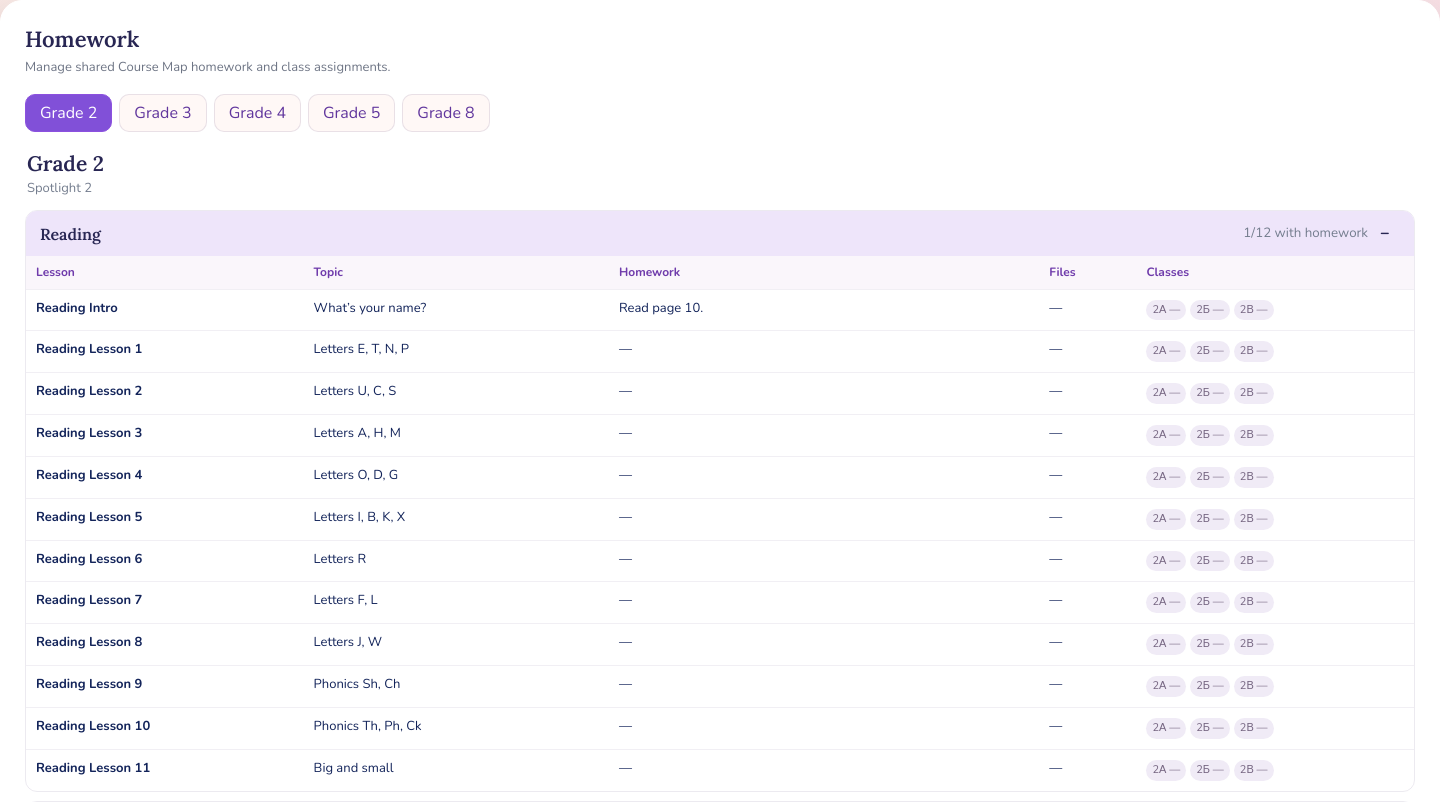
Test: Homework per-class publication state › creates the canonical Template and publishes the assignment on the first click
Click the row that starts with "Reading Intro": [720, 310] box [26,289,1414,331]
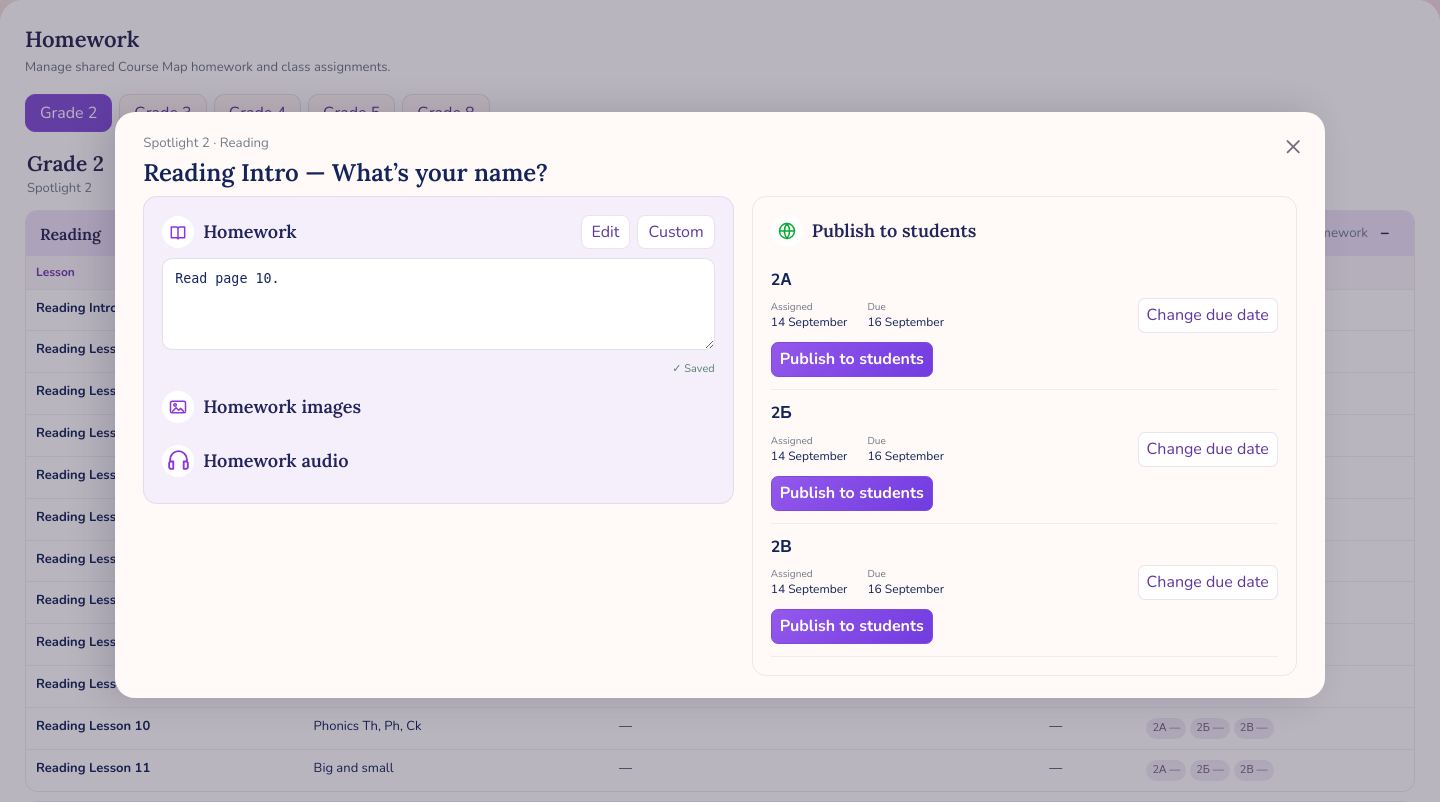
Click the 1st button "Publish to students": [852, 360] box [771,342,933,377]
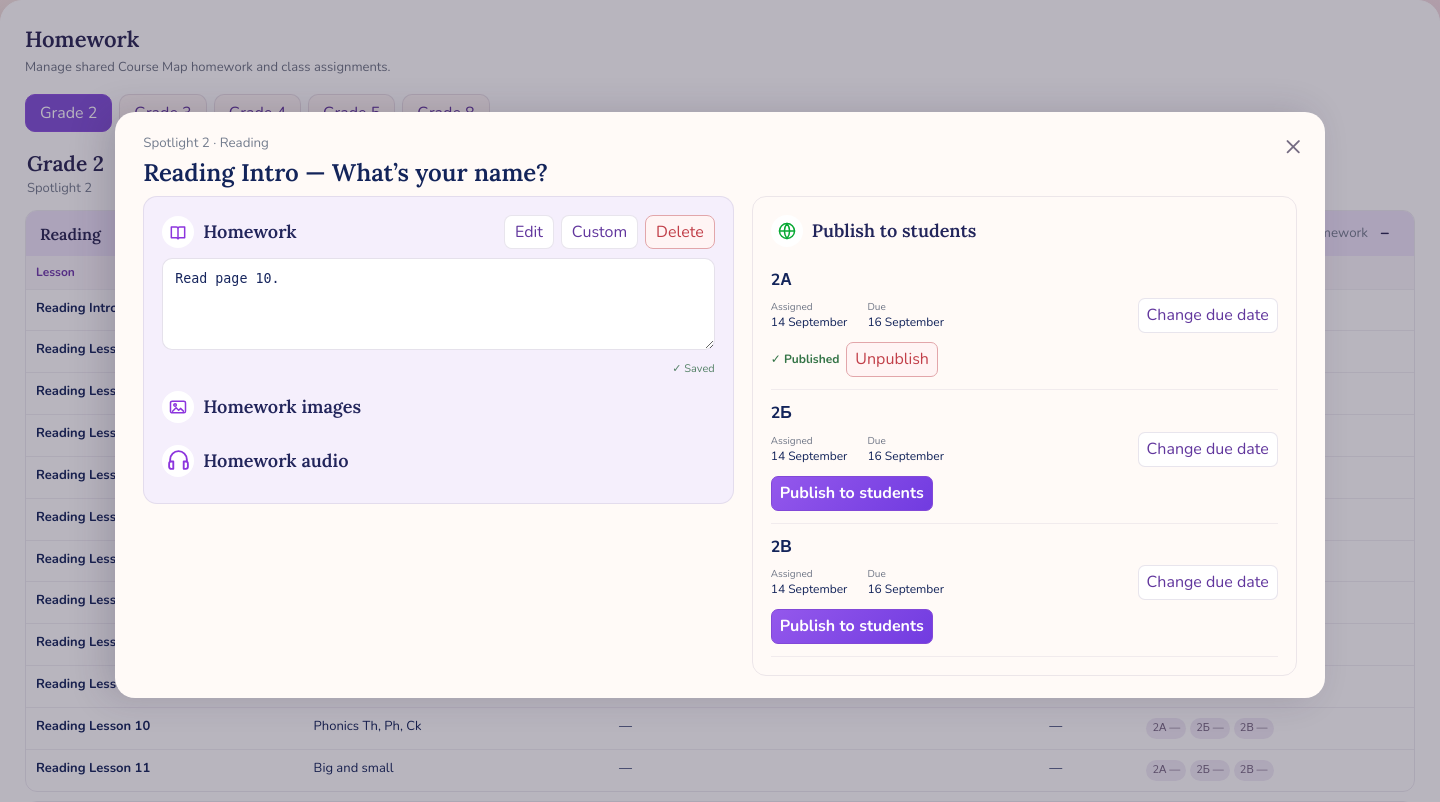
Check: the text "Published" is shown, box [771,351,839,367]
